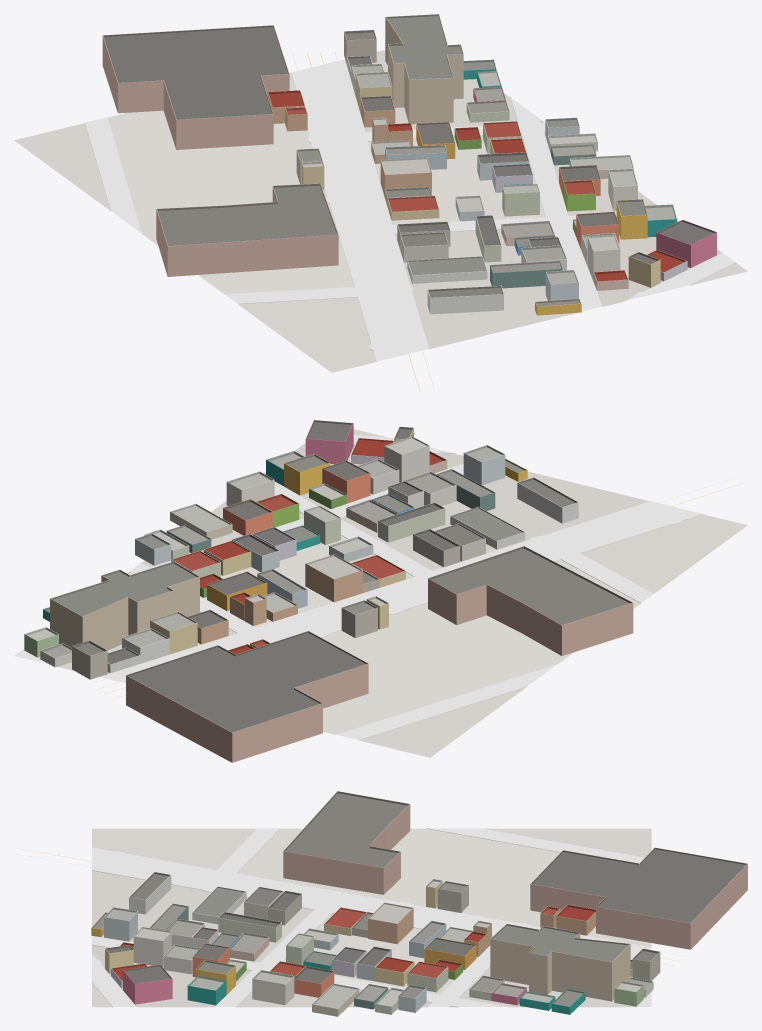
The picture shows the model from 3 angles, top to bottom: view 1: azimuth 30°, elevation 25°; view 2: azimuth 150°, elevation 25°; view 3: azimuth 270°, elevation 25°; orthographic projection. The views are drawn at different scales.
Visible parts, largest first — view 1: roofs, ground, walls, sidewalk; view 2: walls, roofs, ground, sidewalk; view 3: roofs, walls, ground, sidewalk.
Part boxes in pixels (bbox=[...]): roofs: bbox=[102, 14, 716, 306]; ground: bbox=[14, 50, 747, 372]; walls: bbox=[102, 18, 716, 315]; sidewalk: bbox=[85, 59, 735, 361]; walls: bbox=[24, 424, 633, 762]; roofs: bbox=[24, 420, 632, 732]; ground: bbox=[23, 429, 747, 757]; sidewalk: bbox=[14, 434, 702, 740]; roofs: bbox=[91, 791, 747, 1008]; walls: bbox=[91, 804, 747, 1016]; ground: bbox=[92, 828, 651, 1007]; sidewalk: bbox=[92, 828, 651, 1007].
Size of what is drawn, in the model's own units: 210 by 19.34 by 328.
